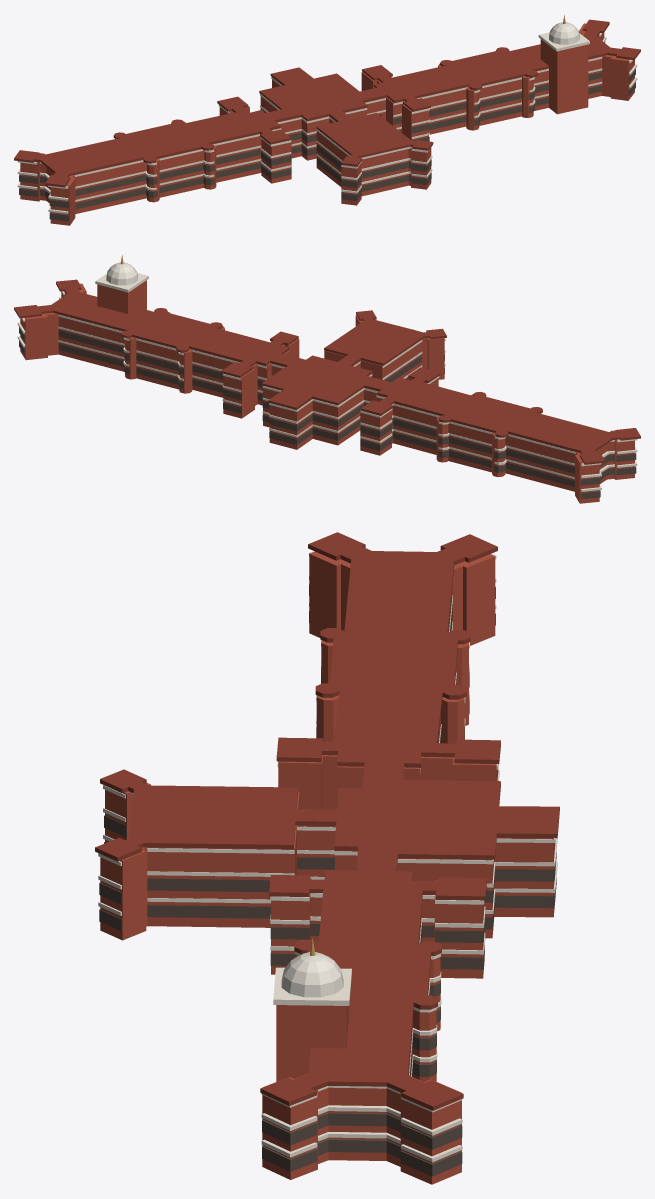
Rendered from yangon_general_hospital.glb.
3 renders of one model, top to bottom at view 1: azimuth 30°, elevation 25°; view 2: azimuth 150°, elevation 25°; view 3: azimuth 270°, elevation 25°, orthographic. The views are drawn at different scales.
Visible parts, largest first — view 1: part; view 2: part; view 3: part.
Part boxes in pixels (x1=…): part: x1=14, y1=15, x2=640, y2=225; part: x1=14, y1=255, x2=640, y2=503; part: x1=95, y1=532, x2=559, y2=1184.
Bounding box in the file's own units: 7610581 × 1113936 × 2601584.
